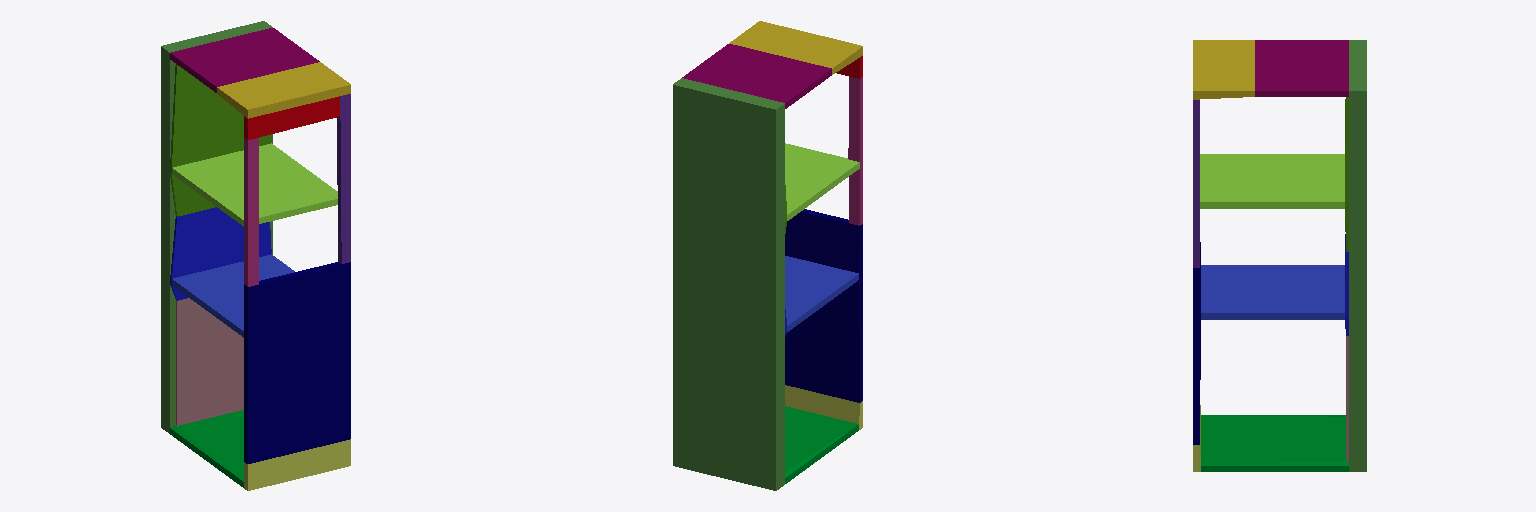
File: SinkArea.obj
3 renders of one model, left to right at view 1: azimuth 30°, elevation 25°; view 2: azimuth 150°, elevation 25°; view 3: azimuth 270°, elevation 25°, orthographic.
Visible parts, largest first — view 1: Shape_IndexedFaceSet.007_Shape_IndexedFaceSet.005, Shape_IndexedFaceSet.002_Shape_IndexedFaceSet.013, Shape_IndexedFaceSet.012_Shape_IndexedFaceSet.005, Shape_IndexedFaceSet.011_Shape_IndexedFaceSet.005, Shape_IndexedFaceSet_Shape_IndexedFaceSet.021, Shape_IndexedFaceSet.003_Shape_IndexedFaceSet.010, Shape_IndexedFaceSet.009_Shape_IndexedFaceSet.005, Shape_IndexedFaceSet.008_Shape_IndexedFaceSet.005, Shape_IndexedFaceSet.006_Shape_IndexedFaceSet.005, Shape_IndexedFaceSet.001_Shape_IndexedFaceSet.013, Shape_IndexedFaceSet.005_Shape_IndexedFaceSet.006, Shape_IndexedFaceSet.010_Shape_IndexedFaceSet.005 (+2 smaller); view 2: Shape_IndexedFaceSet_Shape_IndexedFaceSet.021, Shape_IndexedFaceSet.007_Shape_IndexedFaceSet.005, Shape_IndexedFaceSet.003_Shape_IndexedFaceSet.010, Shape_IndexedFaceSet.008_Shape_IndexedFaceSet.005, Shape_IndexedFaceSet.012_Shape_IndexedFaceSet.005, Shape_IndexedFaceSet.001_Shape_IndexedFaceSet.013, Shape_IndexedFaceSet.006_Shape_IndexedFaceSet.005, Shape_IndexedFaceSet.004_Shape_IndexedFaceSet.010, Shape_IndexedFaceSet.005_Shape_IndexedFaceSet.006; view 3: Shape_IndexedFaceSet.001_Shape_IndexedFaceSet.013, Shape_IndexedFaceSet.012_Shape_IndexedFaceSet.005, Shape_IndexedFaceSet.006_Shape_IndexedFaceSet.005, Shape_IndexedFaceSet_Shape_IndexedFaceSet.021, Shape_IndexedFaceSet.003_Shape_IndexedFaceSet.010, Shape_IndexedFaceSet.008_Shape_IndexedFaceSet.005, Shape_IndexedFaceSet.007_Shape_IndexedFaceSet.005, Shape_IndexedFaceSet.010_Shape_IndexedFaceSet.005, Shape_IndexedFaceSet.011_Shape_IndexedFaceSet.005.
Part boxes in pixels (x1,y1,x2,y2): Shape_IndexedFaceSet.007_Shape_IndexedFaceSet.005: (244, 262, 350, 463); Shape_IndexedFaceSet.002_Shape_IndexedFaceSet.013: (176, 298, 243, 425); Shape_IndexedFaceSet.012_Shape_IndexedFaceSet.005: (172, 143, 337, 226); Shape_IndexedFaceSet.011_Shape_IndexedFaceSet.005: (170, 64, 271, 216); Shape_IndexedFaceSet_Shape_IndexedFaceSet.021: (161, 21, 272, 433); Shape_IndexedFaceSet.003_Shape_IndexedFaceSet.010: (170, 28, 319, 92); Shape_IndexedFaceSet.009_Shape_IndexedFaceSet.005: (170, 207, 271, 300); Shape_IndexedFaceSet.008_Shape_IndexedFaceSet.005: (217, 62, 350, 118); Shape_IndexedFaceSet.006_Shape_IndexedFaceSet.005: (172, 254, 294, 337); Shape_IndexedFaceSet.001_Shape_IndexedFaceSet.013: (170, 410, 243, 487); Shape_IndexedFaceSet.005_Shape_IndexedFaceSet.006: (244, 439, 350, 490); Shape_IndexedFaceSet.010_Shape_IndexedFaceSet.005: (337, 94, 350, 263); Shape_IndexedFaceSet_Shape_IndexedFaceSet.021: (673, 78, 784, 490); Shape_IndexedFaceSet.007_Shape_IndexedFaceSet.005: (785, 209, 862, 402); Shape_IndexedFaceSet.003_Shape_IndexedFaceSet.010: (682, 44, 831, 108); Shape_IndexedFaceSet.008_Shape_IndexedFaceSet.005: (729, 21, 862, 74); Shape_IndexedFaceSet.012_Shape_IndexedFaceSet.005: (785, 143, 859, 220); Shape_IndexedFaceSet.001_Shape_IndexedFaceSet.013: (785, 406, 858, 483); Shape_IndexedFaceSet.006_Shape_IndexedFaceSet.005: (785, 256, 858, 331); Shape_IndexedFaceSet.004_Shape_IndexedFaceSet.010: (848, 77, 862, 225); Shape_IndexedFaceSet.005_Shape_IndexedFaceSet.006: (785, 385, 862, 429); Shape_IndexedFaceSet.001_Shape_IndexedFaceSet.013: (1201, 415, 1348, 471); Shape_IndexedFaceSet.012_Shape_IndexedFaceSet.005: (1200, 154, 1344, 208); Shape_IndexedFaceSet.006_Shape_IndexedFaceSet.005: (1201, 265, 1344, 319); Shape_IndexedFaceSet_Shape_IndexedFaceSet.021: (1349, 40, 1366, 471); Shape_IndexedFaceSet.003_Shape_IndexedFaceSet.010: (1255, 40, 1348, 96); Shape_IndexedFaceSet.008_Shape_IndexedFaceSet.005: (1193, 40, 1254, 99); Shape_IndexedFaceSet.007_Shape_IndexedFaceSet.005: (1193, 242, 1200, 444); Shape_IndexedFaceSet.010_Shape_IndexedFaceSet.005: (1193, 100, 1199, 267); Shape_IndexedFaceSet.011_Shape_IndexedFaceSet.005: (1345, 97, 1348, 251).
Bounding box in the file's own units: 0.5876 × 2.07 × 0.8572.